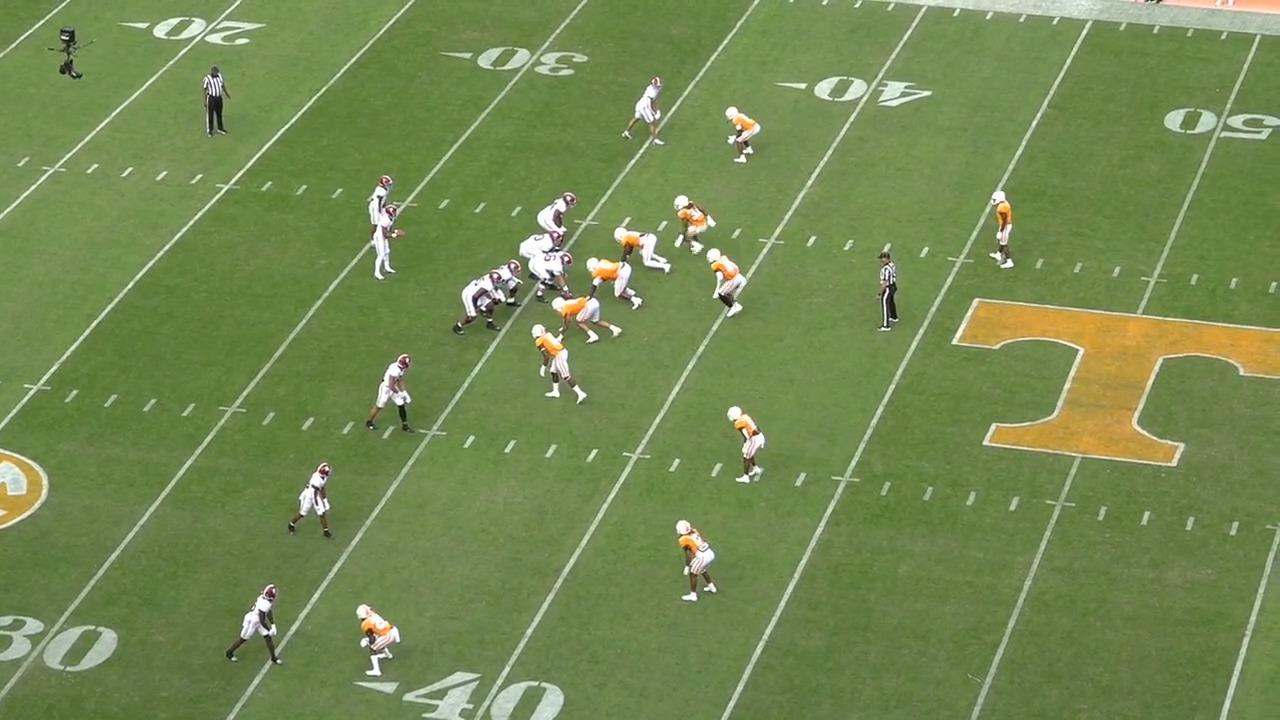defense: (529, 323, 591, 409), (346, 601, 395, 683), (670, 517, 715, 606), (548, 297, 619, 350), (725, 405, 765, 489), (588, 255, 648, 311), (611, 227, 673, 277), (705, 246, 745, 322), (671, 190, 716, 257), (982, 188, 1016, 271), (726, 105, 766, 171)
oline: (450, 271, 504, 339), (527, 252, 573, 304), (481, 261, 522, 315), (522, 226, 573, 268), (537, 190, 579, 236)
qb: (364, 207, 396, 285)
ref: (870, 251, 900, 340), (202, 63, 233, 140)
skill: (221, 580, 287, 670), (356, 348, 412, 433), (278, 459, 331, 542), (625, 75, 673, 155), (368, 174, 395, 252)
